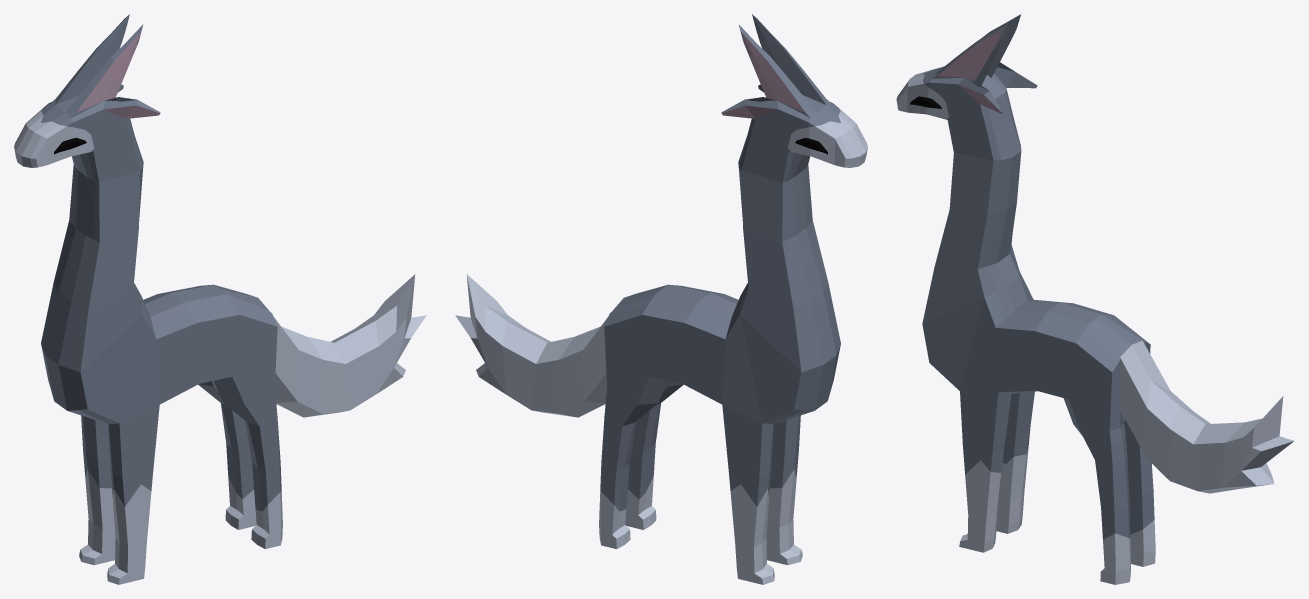
File: Melvil.fbx
3 renders of one model, left to right at view 1: azimuth 30°, elevation 25°; view 2: azimuth 150°, elevation 25°; view 3: azimuth 330°, elevation 25°, orthographic. The views are drawn at different scales.
Parts seen in each view (by area): view 1: Plane; view 2: Plane; view 3: Plane.
Boxes of the visible parts, x1=… form: Plane: x1=14, y1=14, x2=426, y2=584; Plane: x1=455, y1=14, x2=867, y2=584; Plane: x1=896, y1=14, x2=1293, y2=584.
Size of the model in its own units: 178 by 226 by 30.08.
